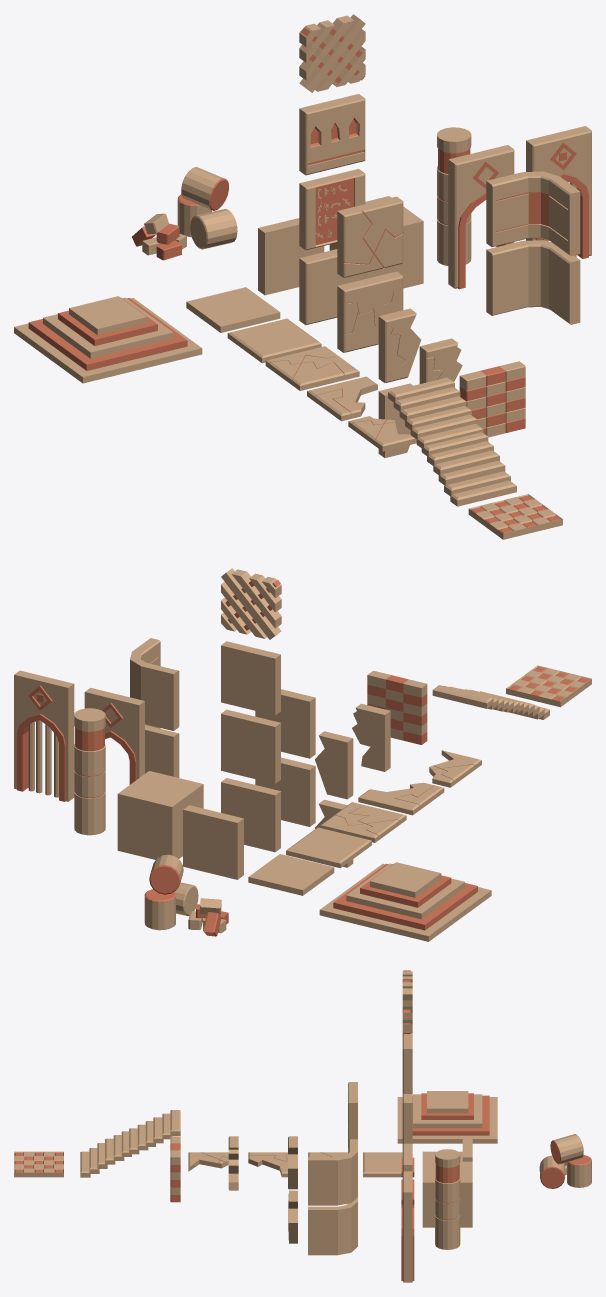
The model's file is Ruin_Level_Objects.dae.
3 views of the same model, one above another, from view 1: azimuth 30°, elevation 25°; view 2: azimuth 150°, elevation 25°; view 3: azimuth 270°, elevation 25° (orthographic). The views are drawn at different scales.
Visible parts, largest first — view 1: Stair_Things, Stairs_Norm, Wall_curved_two, Wall_curved, Wall_Broken_Two, Wall_carved, Archway, Wall_cross, Archway_barred, Wall_Broken, Wall_Bricks, Wall_Runes (+15 smaller); view 2: Stair_Things, Archway_barred, TileSize, Pillar, Wall, Wall_carved, Wall_Runes, Wall_cross, Wall_curved_two, Wall_Bricks, Wall_norm, Archway (+14 smaller); view 3: Stair_Things, Stairs_Norm, Wall_curved_two, Pillar, Wall_curved, Debris_Pillar, TileSize, Archway_barred, Floor_Bricks, Floor_Norm, Wall_Bricks, Wall_cross (+9 smaller).
Part boxes in pixels (bbox=[...]): Stair_Things: bbox=[14, 296, 202, 383]; Stairs_Norm: bbox=[388, 377, 516, 506]; Wall_curved_two: bbox=[486, 171, 580, 256]; Wall_curved: bbox=[486, 240, 580, 324]; Wall_Broken_Two: bbox=[337, 196, 403, 277]; Wall_carved: bbox=[299, 94, 365, 175]; Archway: bbox=[448, 145, 514, 289]; Wall_cross: bbox=[299, 14, 365, 92]; Archway_barred: bbox=[526, 126, 591, 258]; Wall_Broken: bbox=[337, 271, 403, 352]; Wall_Bricks: bbox=[459, 361, 525, 437]; Wall_Runes: bbox=[299, 169, 365, 250]; Stair_Things: bbox=[319, 862, 491, 941]; Archway_barred: bbox=[14, 670, 74, 801]; TileSize: bbox=[117, 771, 203, 859]; Pillar: bbox=[74, 708, 105, 835]; Wall: bbox=[183, 805, 243, 879]; Wall_carved: bbox=[221, 641, 280, 715]; Wall_Runes: bbox=[221, 709, 280, 783]; Wall_cross: bbox=[221, 568, 281, 639]; Wall_curved_two: bbox=[130, 638, 179, 730]; Wall_Bricks: bbox=[367, 671, 427, 744]; Wall_norm: bbox=[221, 778, 280, 852]; Archway: bbox=[84, 687, 144, 784]; Stair_Things: bbox=[397, 1091, 497, 1143]; Stairs_Norm: bbox=[80, 1110, 180, 1177]; Wall_curved_two: bbox=[308, 1139, 357, 1205]; Pillar: bbox=[435, 1149, 460, 1249]; Wall_curved: bbox=[308, 1197, 357, 1255]; Debris_Pillar: bbox=[539, 1134, 591, 1188]; TileSize: bbox=[422, 1161, 472, 1227]; Archway_barred: bbox=[401, 1171, 414, 1282]; Floor_Bricks: bbox=[14, 1151, 63, 1177]; Floor_Norm: bbox=[363, 1152, 402, 1177]; Wall_Bricks: bbox=[170, 1136, 180, 1202]; Wall_cross: bbox=[402, 970, 412, 1033].
Size of what is drawn, in the model's own units: 86 by 116 by 59.01.
